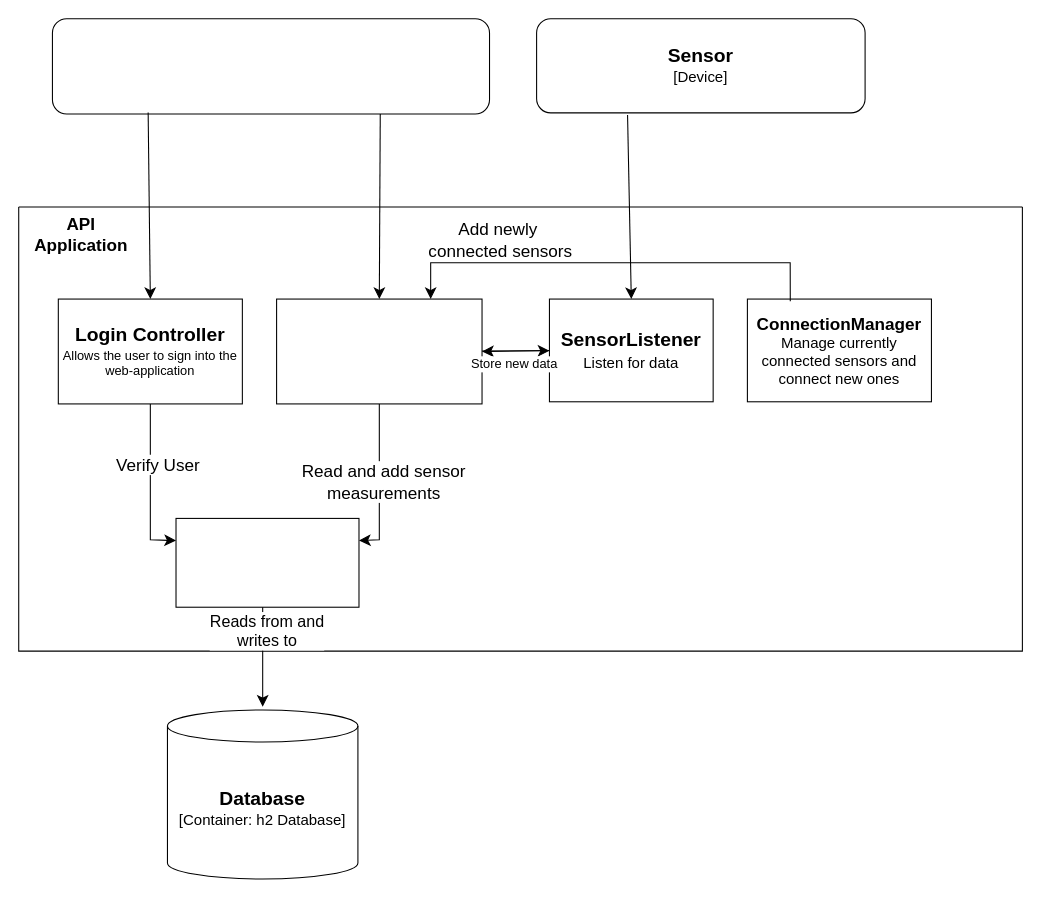
The diagram is 1041 pixels wide and 898 high, and some of its shapes have lost their labels. Here are the shapes that lost their labels. From the top down, the centre of each, then its label:
At point 270,66: "Web Application [Container: Django]".
At point 379,351: "DataController Get sensor measurement data".
At point 267,562: "DBManager Manage database requests".
